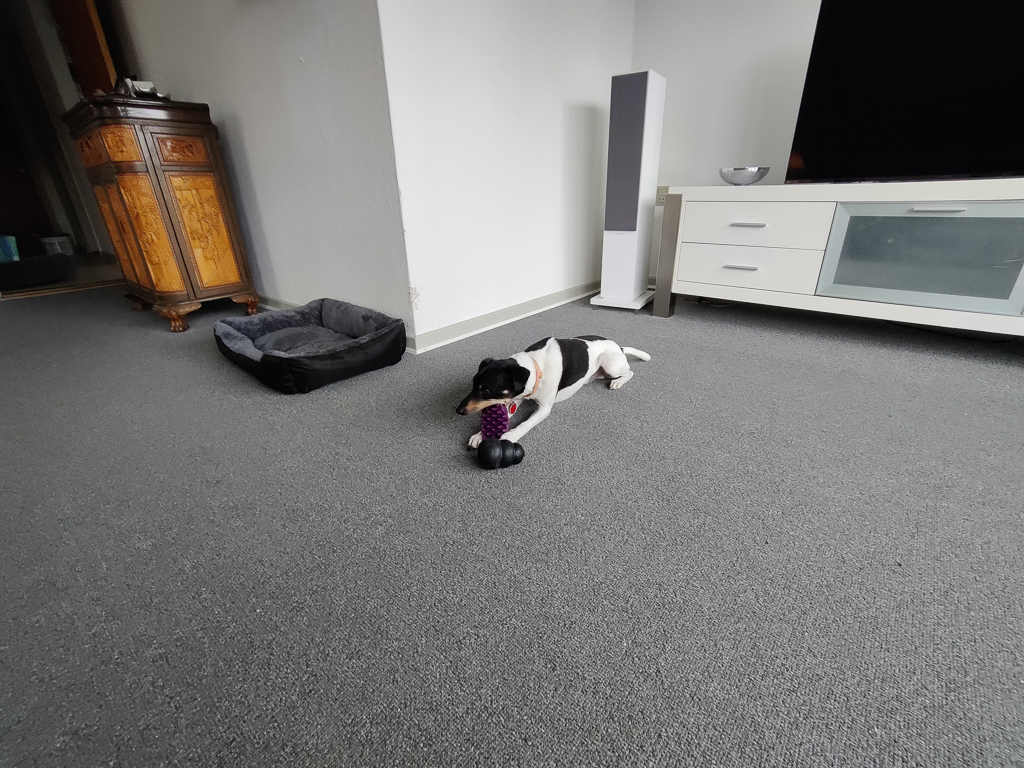Dog: (446, 324, 663, 469)
